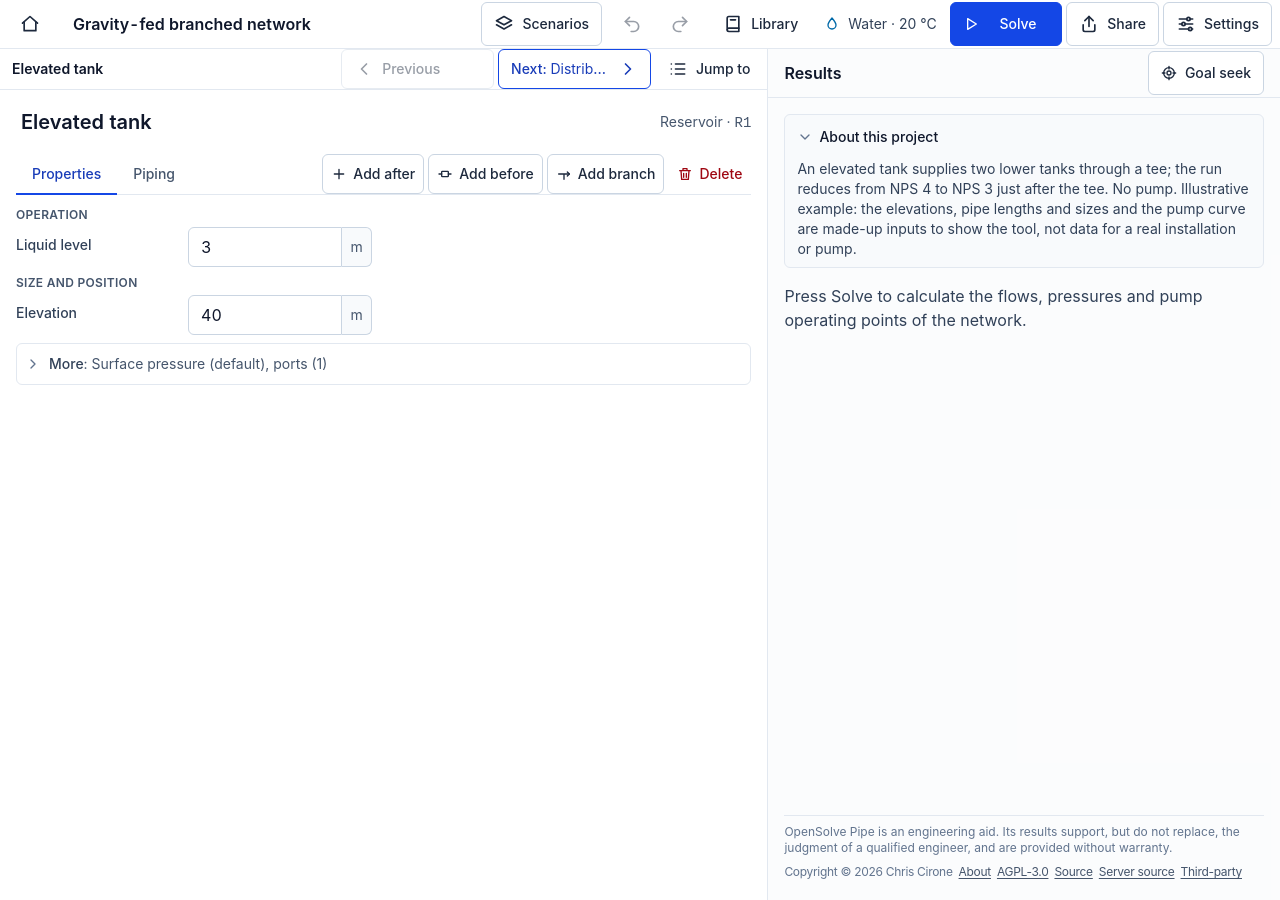
PanelNavigator › closing the chooser stays put
Step 1. Click the button "Next: Distribution tee" → x=575, y=69, box [498,49,651,89]
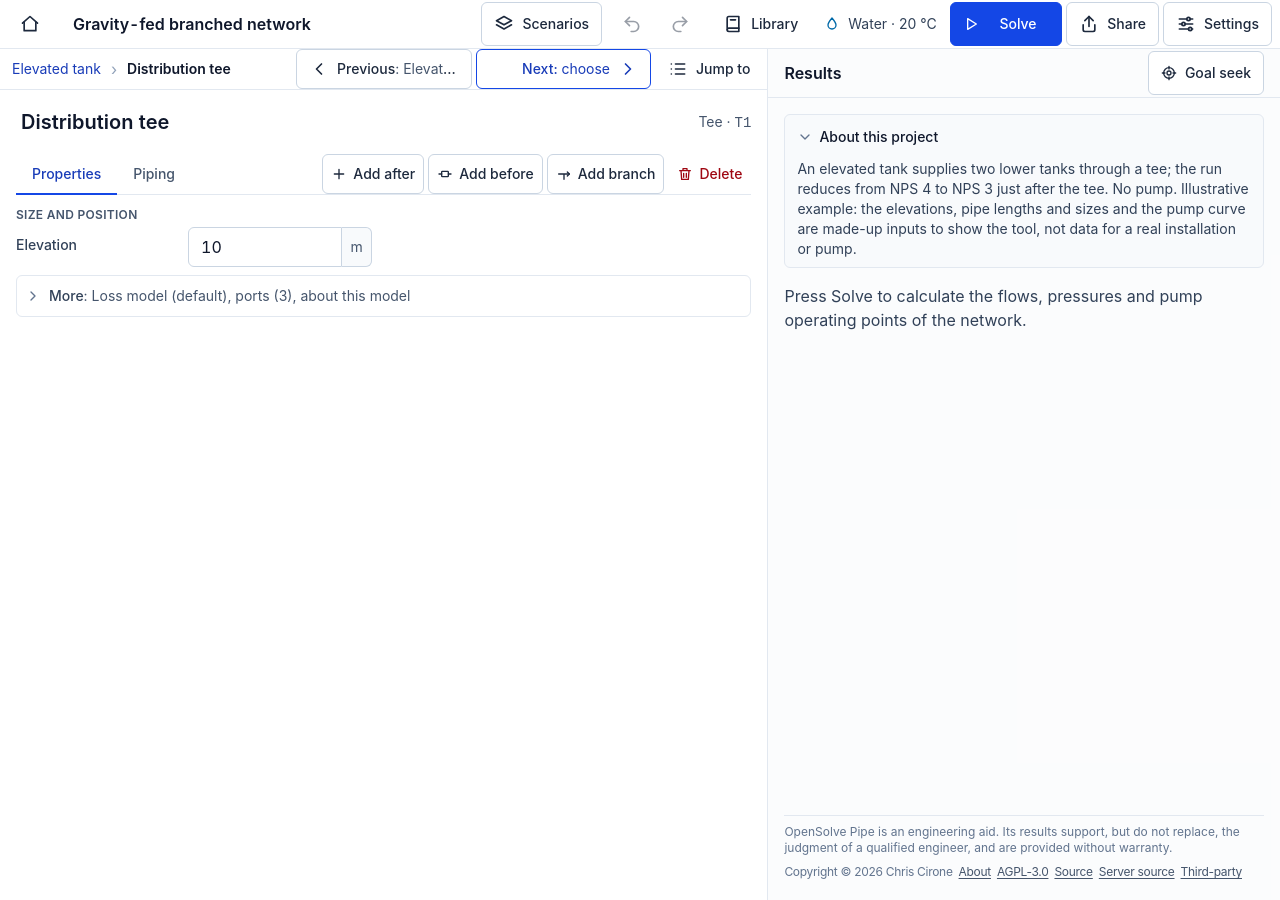
Step 2. Click the button "Next: choose" → x=563, y=69, box [476,49,651,89]
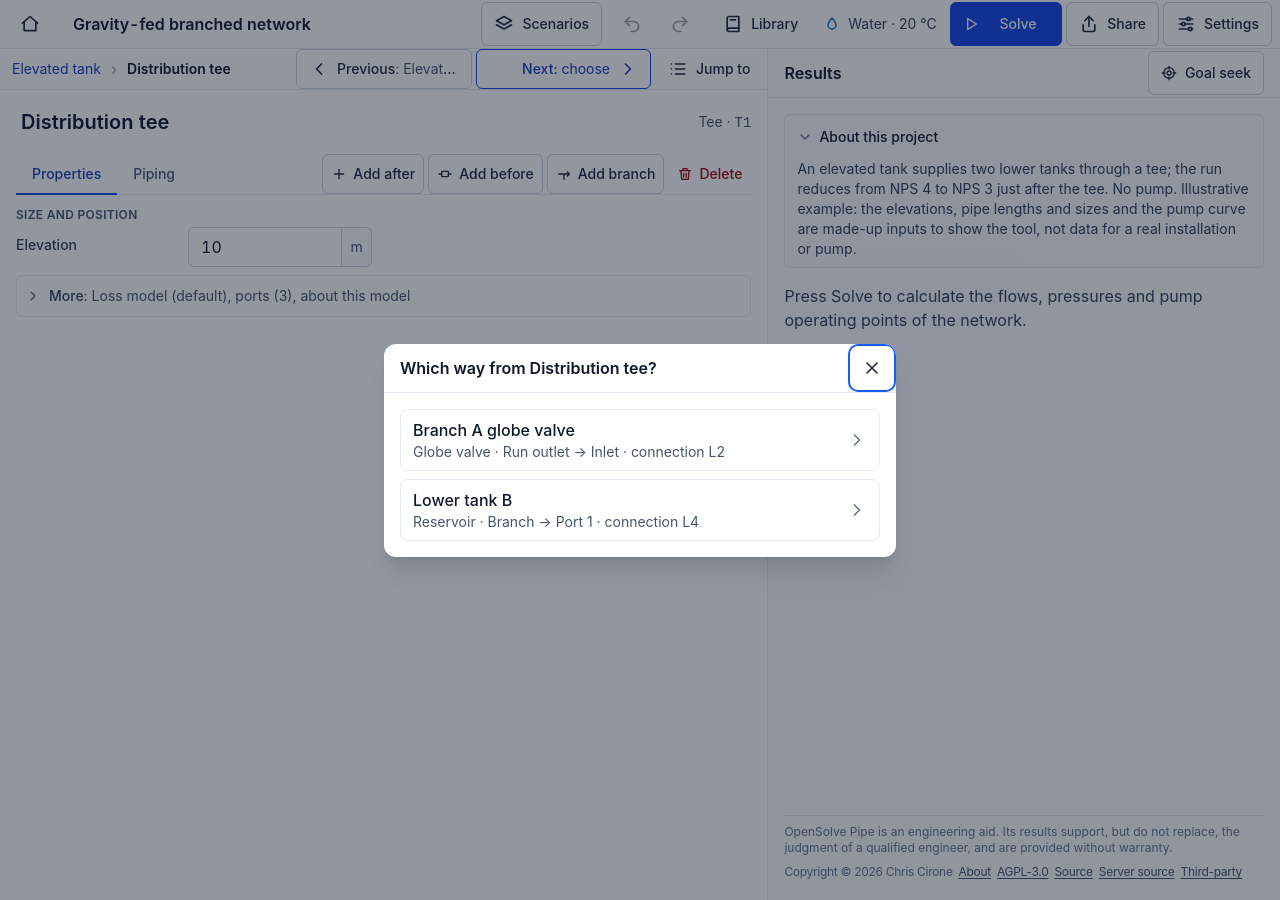
Step 3. Click the button named "Close" → x=872, y=368, box [852,348,892,388]
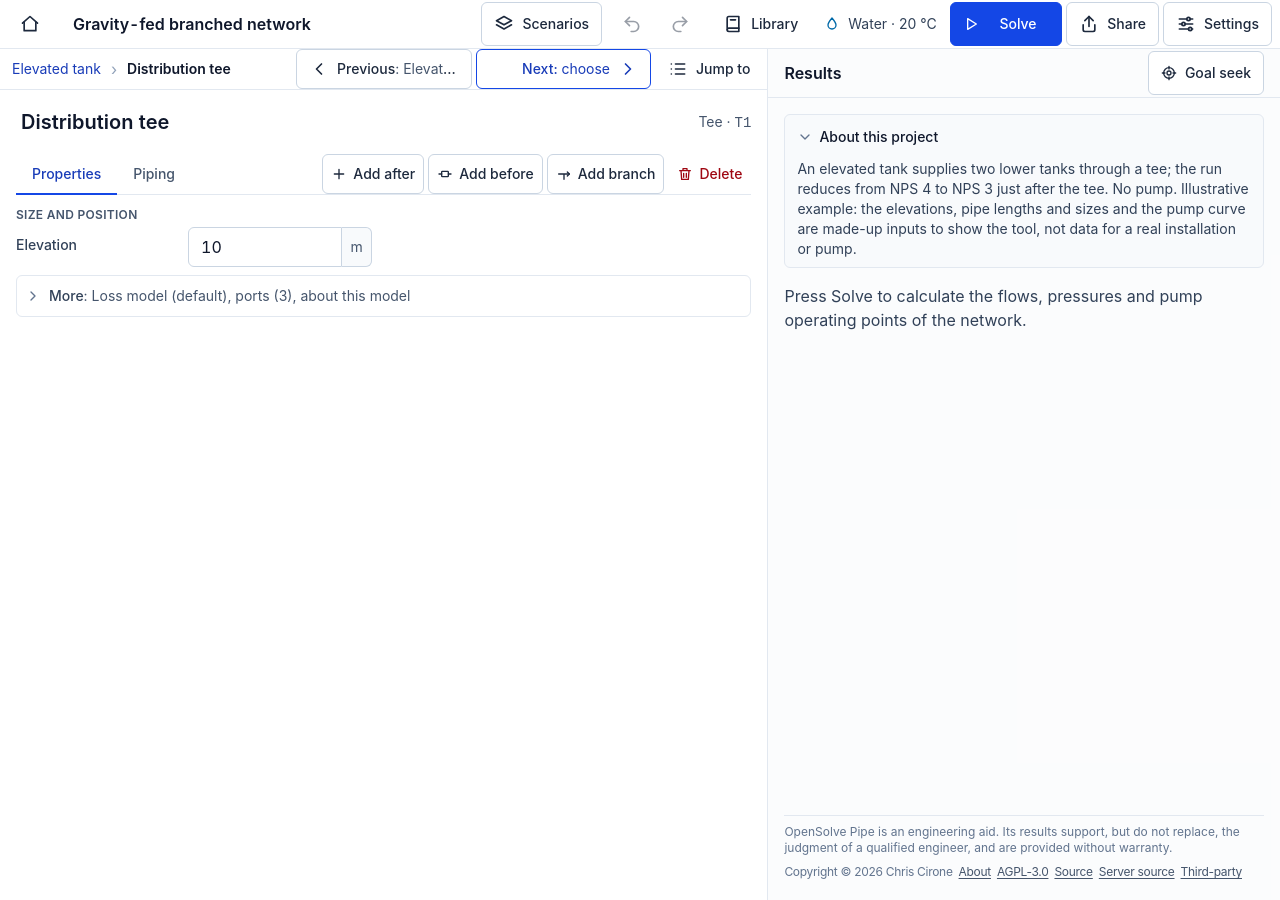
Expected: the button "Distribution tee" is shown, [119,49,239,89]
Expected: the dialog is gone
